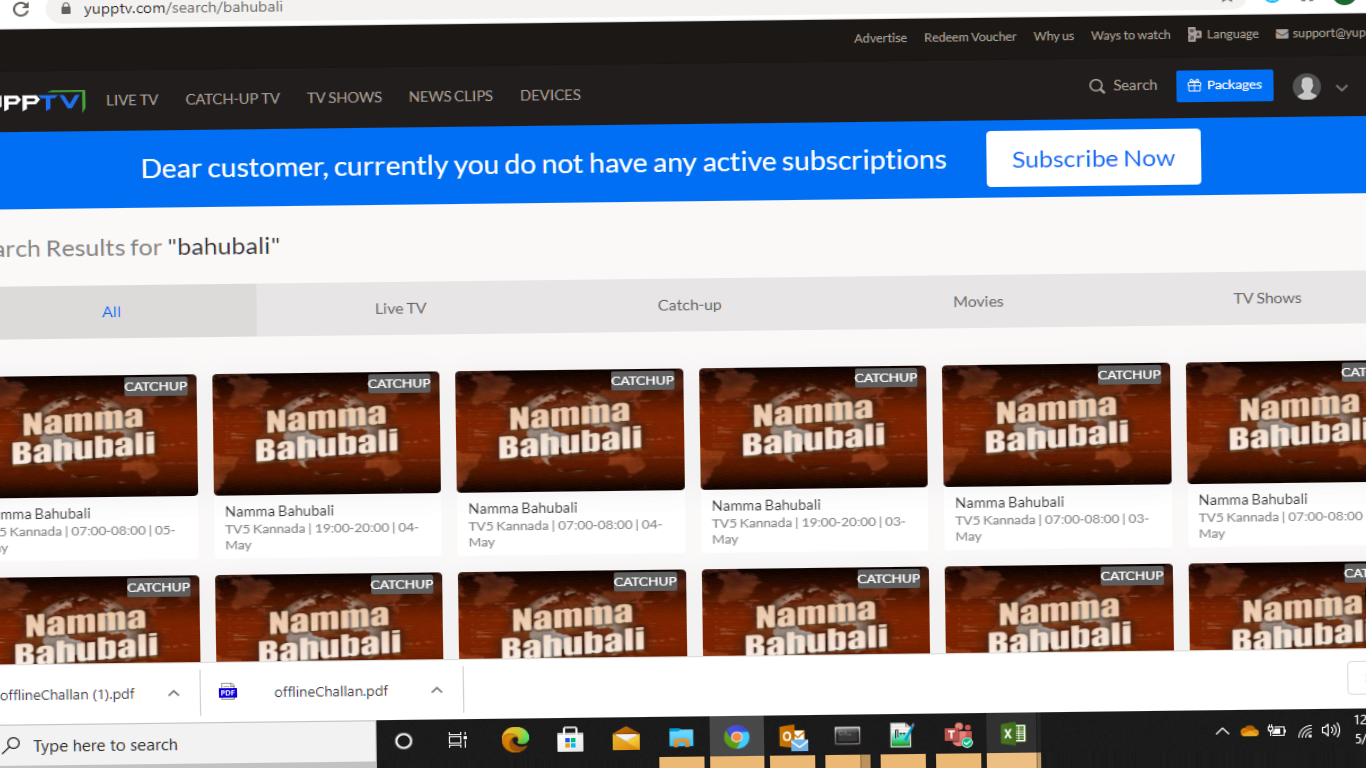profileicon: (1290, 66, 1355, 107)
resultsfound: (1, 225, 286, 275)
searchicon: (1082, 72, 1166, 105)
